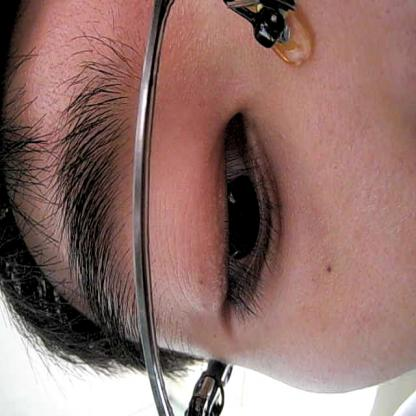Down: (195, 95, 283, 339)
